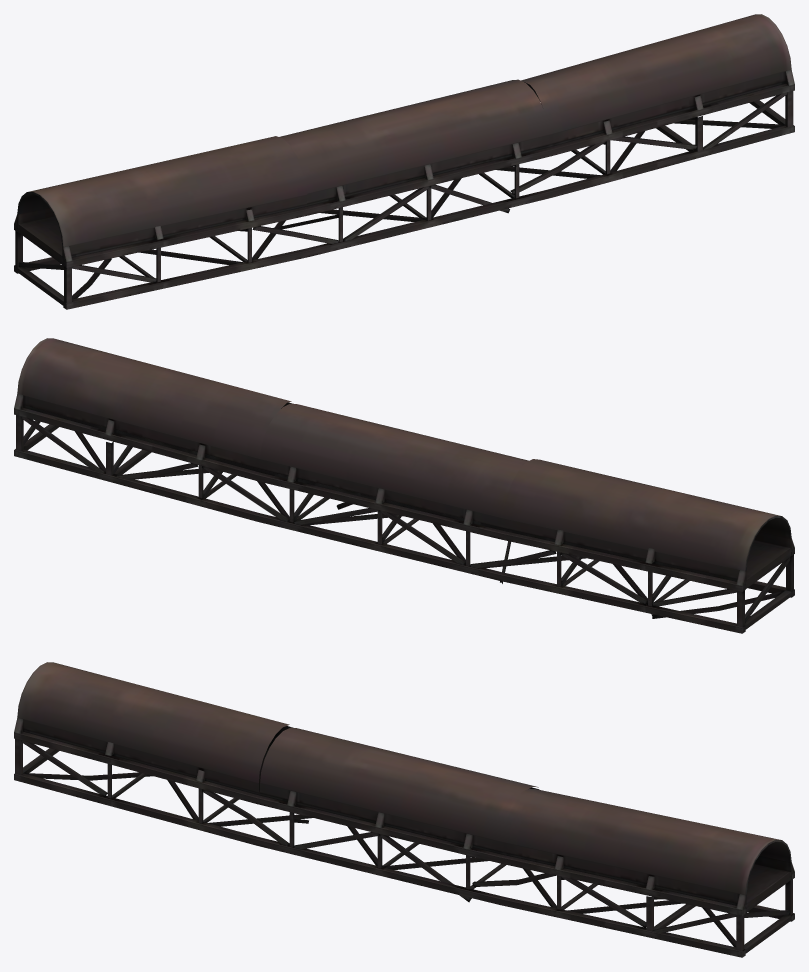
3 renders of one model, top to bottom at view 1: azimuth 30°, elevation 25°; view 2: azimuth 150°, elevation 25°; view 3: azimuth 330°, elevation 25°, orthographic.
Parts seen in each view (by area): view 1: body0_model0_lod0_mesh0; view 2: body0_model0_lod0_mesh0; view 3: body0_model0_lod0_mesh0.
Part boxes in pixels (box(x1,y1,x2,y2)): body0_model0_lod0_mesh0: box(14, 14, 794, 309); body0_model0_lod0_mesh0: box(14, 338, 794, 633); body0_model0_lod0_mesh0: box(14, 662, 794, 957).
Size of the model in its own units: 512 by 76 by 64.06.
Materials: 1 (1 with a texture image).
